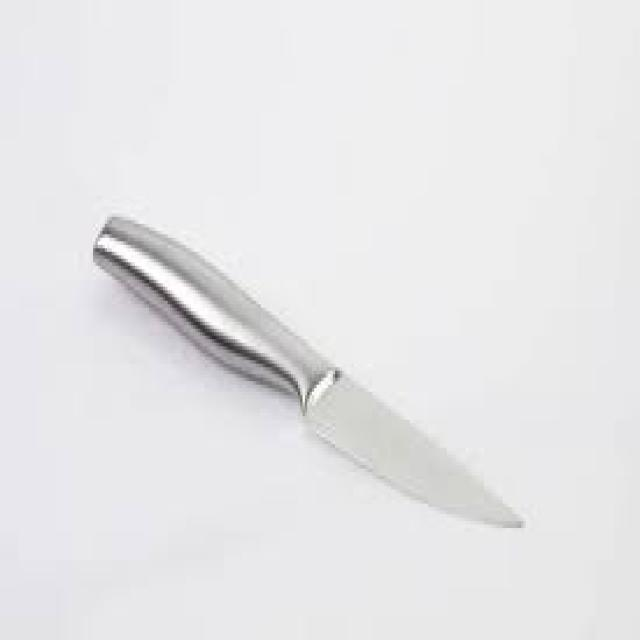Knife: (90, 210, 524, 528)
